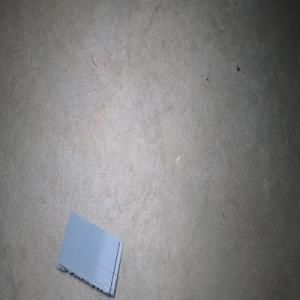PlasticPart: (55, 211, 124, 297)
